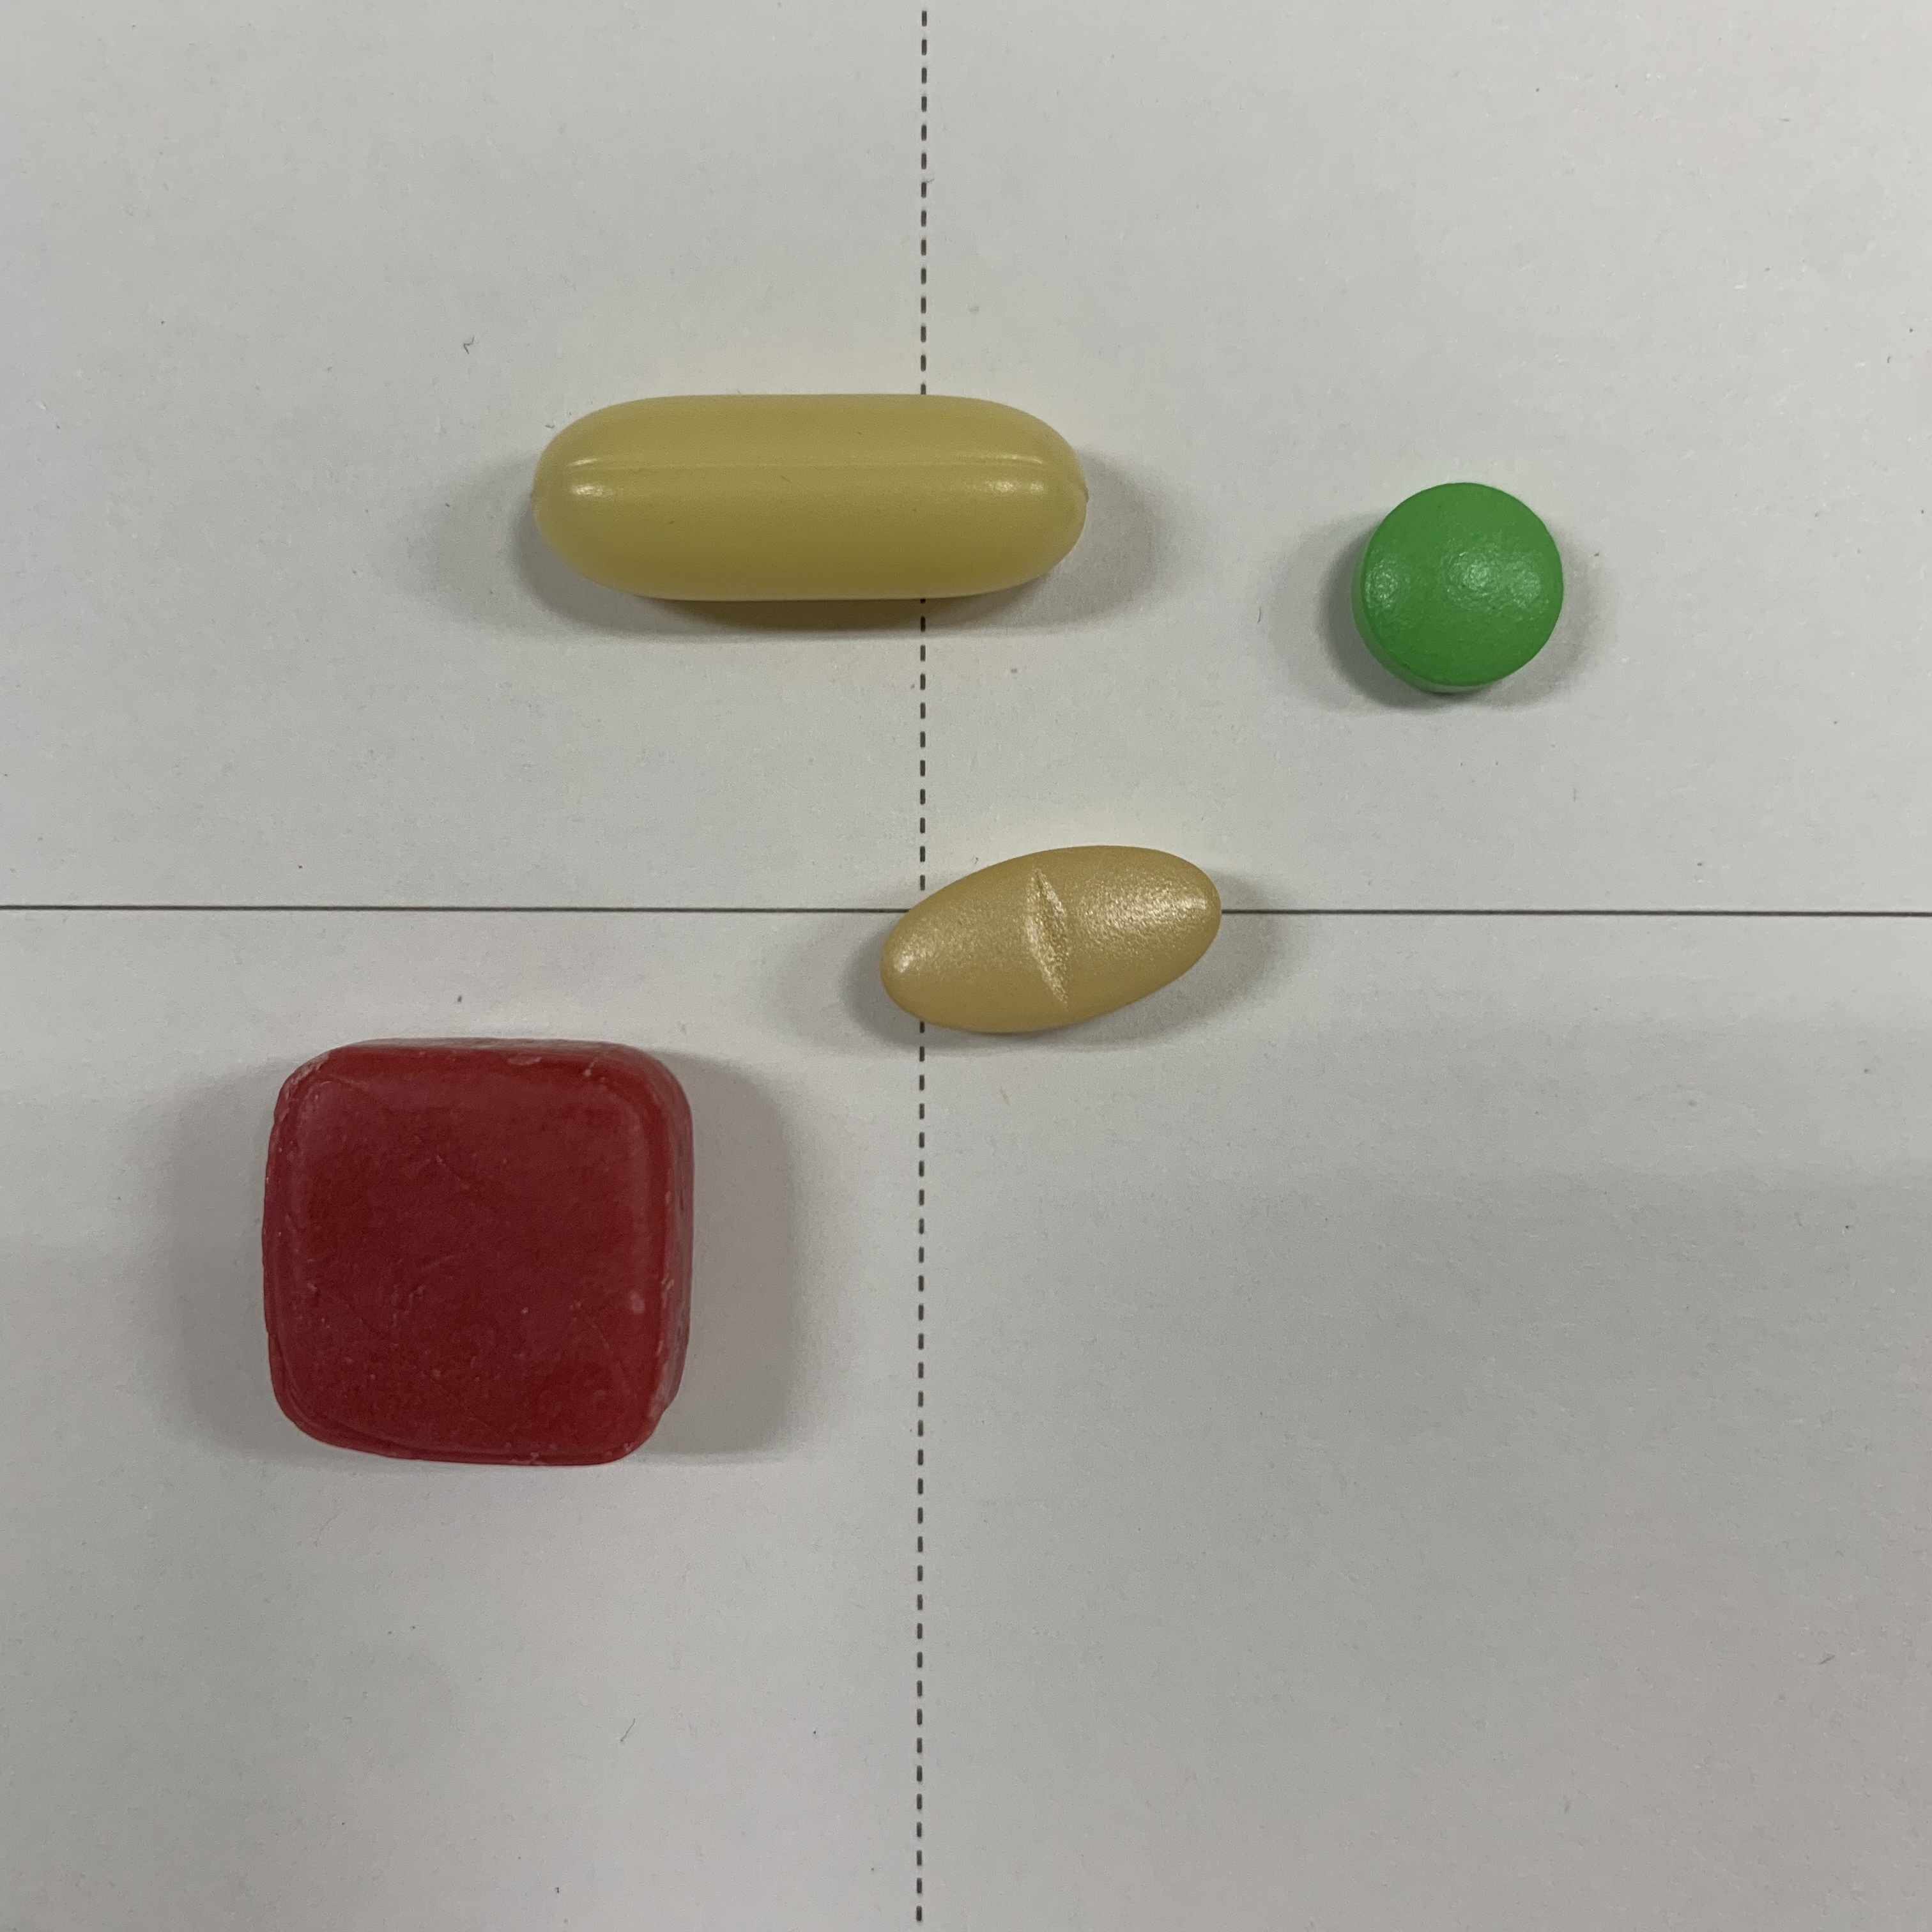cir_drug: (1348, 469, 1576, 706)
oval_drug: (869, 833, 1270, 1040)
rec_drug: (515, 377, 1090, 651)
sqr_drug: (251, 1024, 722, 1481)
